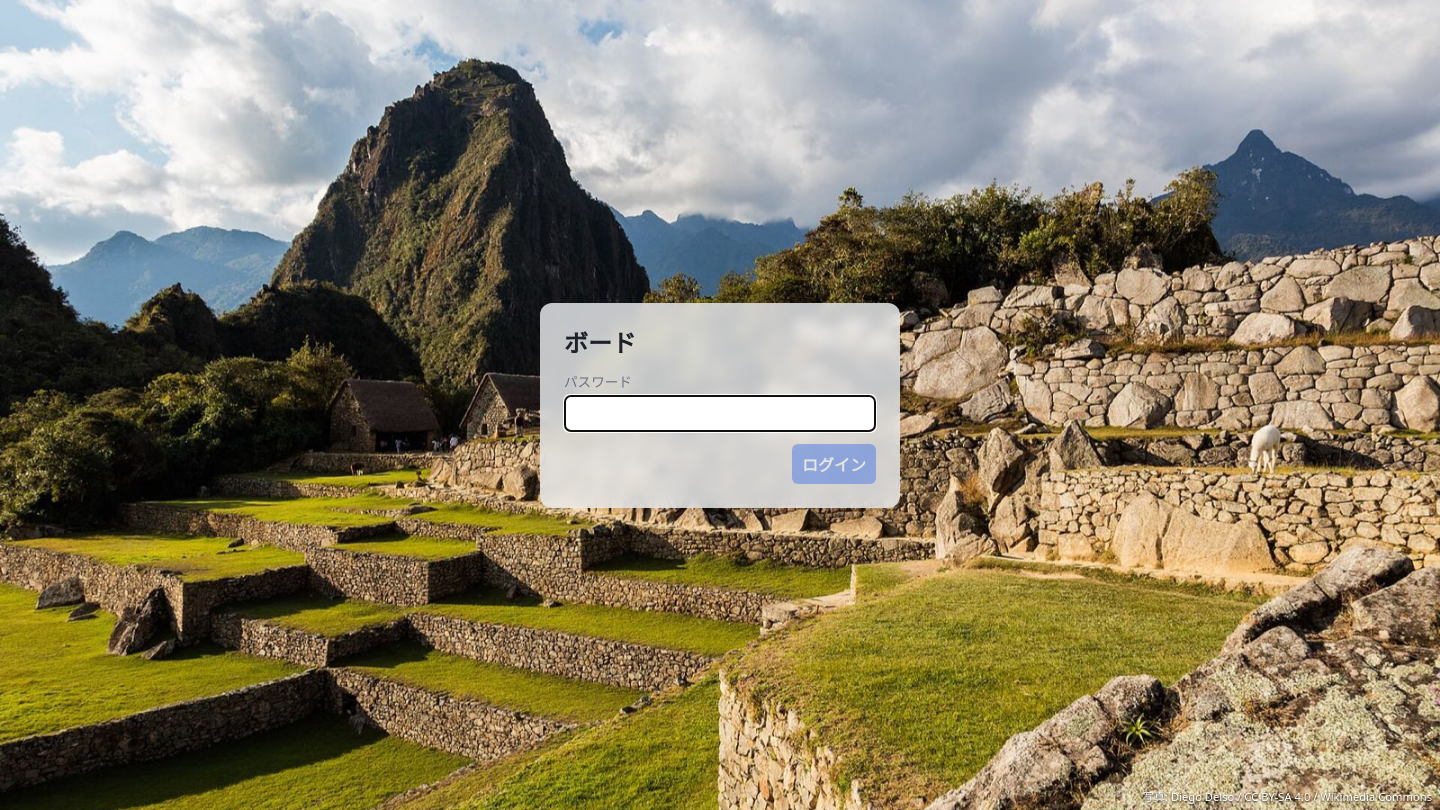
Test case: ログイン › ログインしていなければログイン画面を出し、正しいパスワードでボードを表示する
Expected: the button "ログイン" is disabled, [792,444,876,484]
Type "wrong" into the password field labelled "パスワード" at (720, 413), box [564,394,876,432]
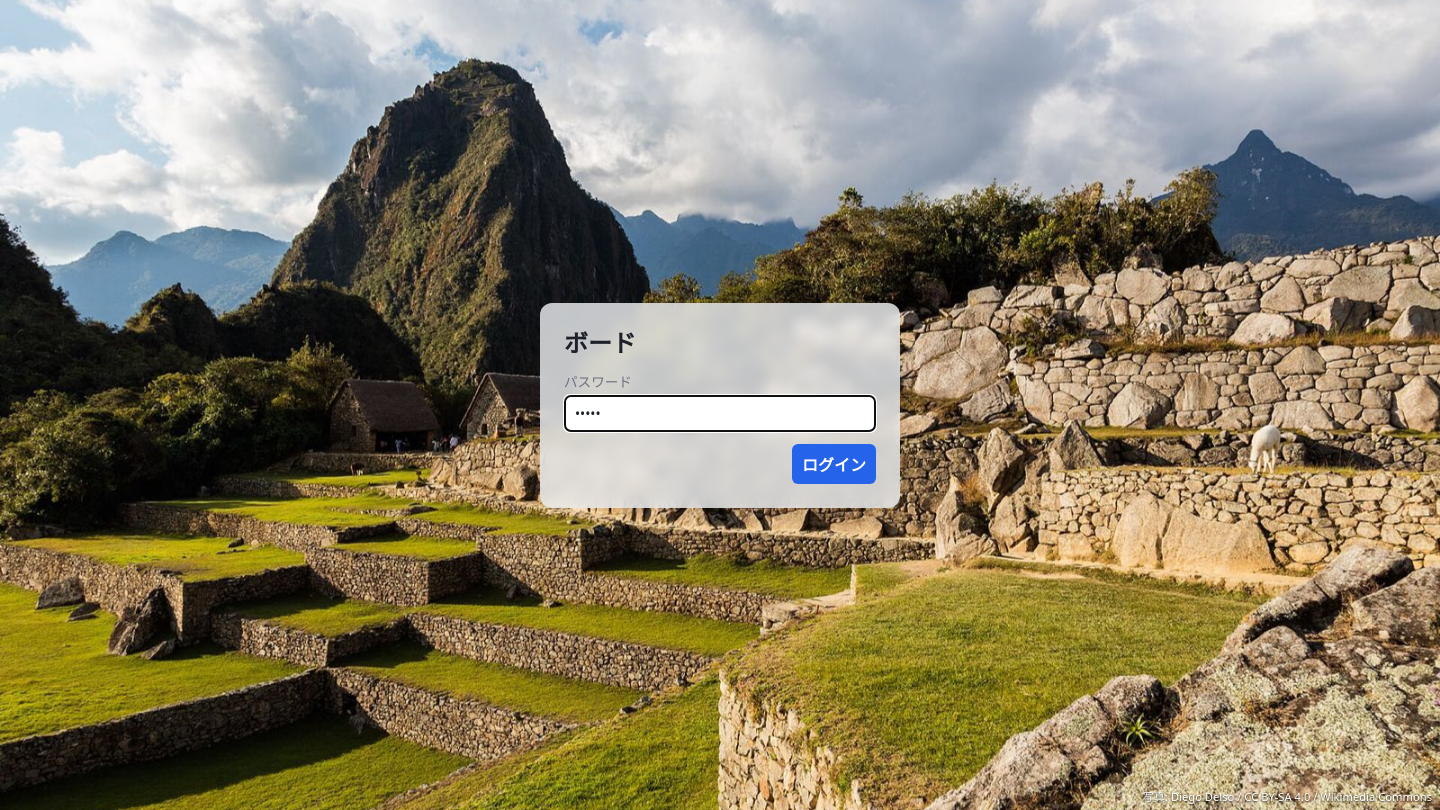
Click the button "ログイン" at (834, 464), box [792,444,876,484]
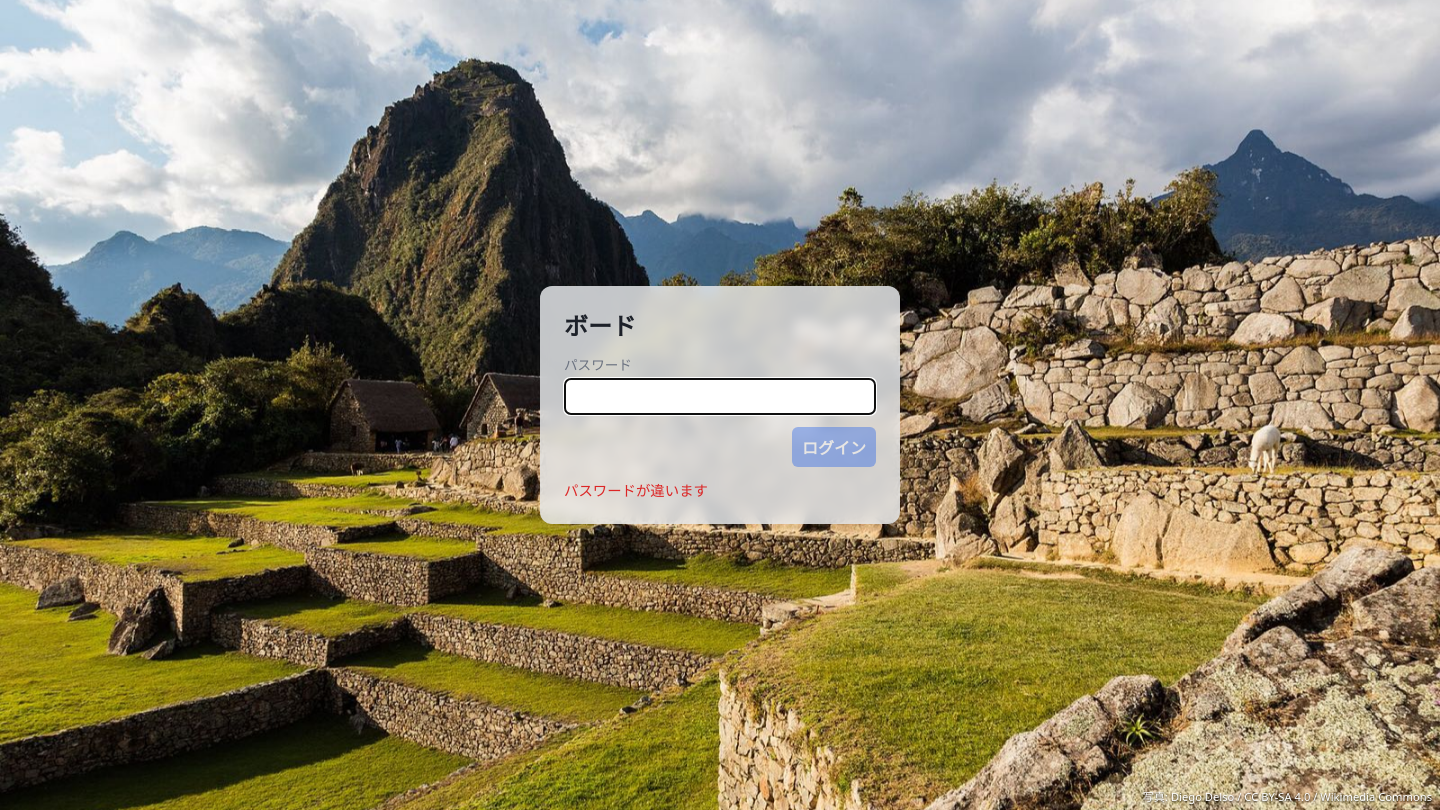
Now the text "パスワードが違います" is shown, box [564,481,708,500]
Now the password field labelled "パスワード" is empty
Type "secret" into the password field labelled "パスワード" at (720, 396), box [564,378,876,415]
Then press Enter
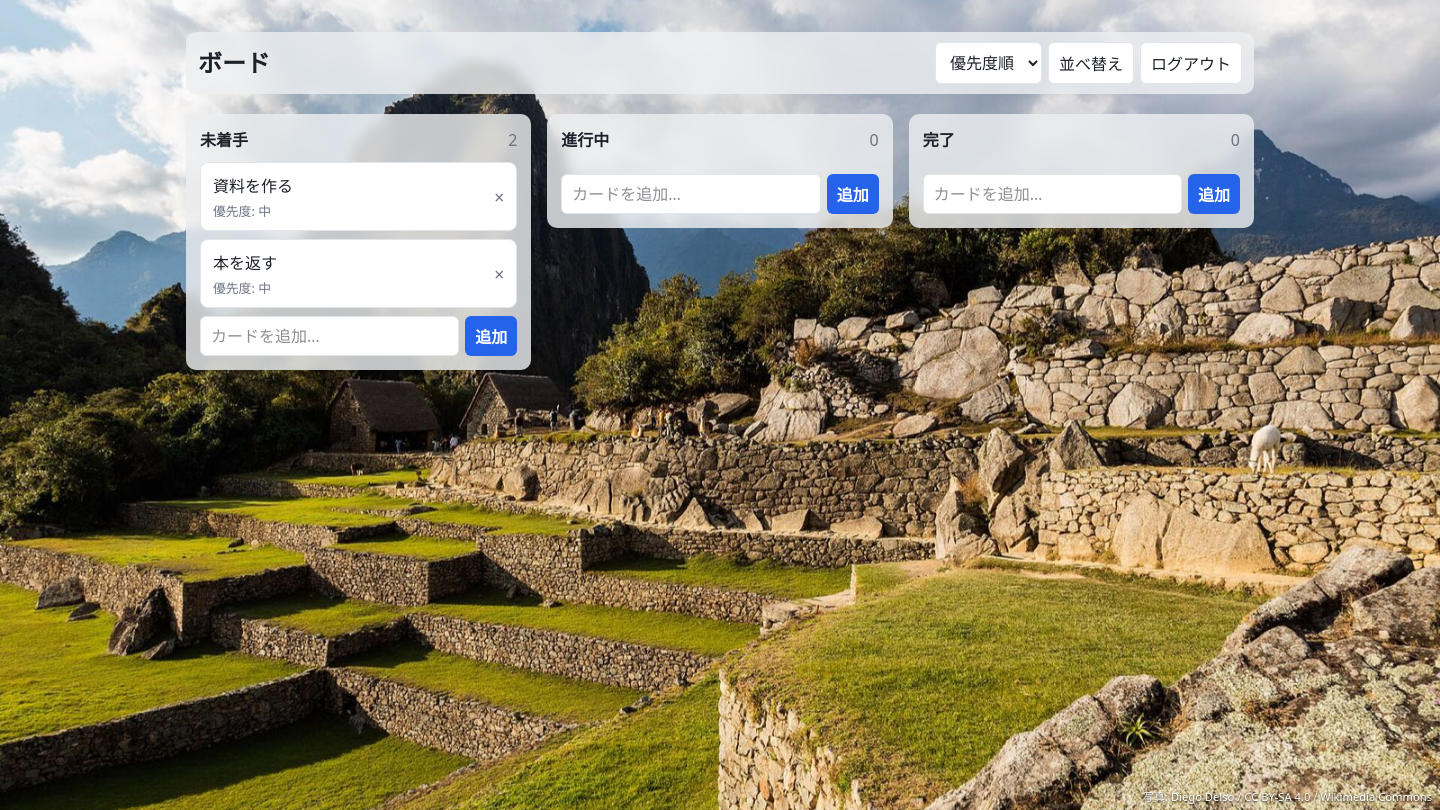
Now the text "資料を作る" is shown, box [213,175,293,197]
Now the text "進行中" is shown, box [561,128,609,152]
